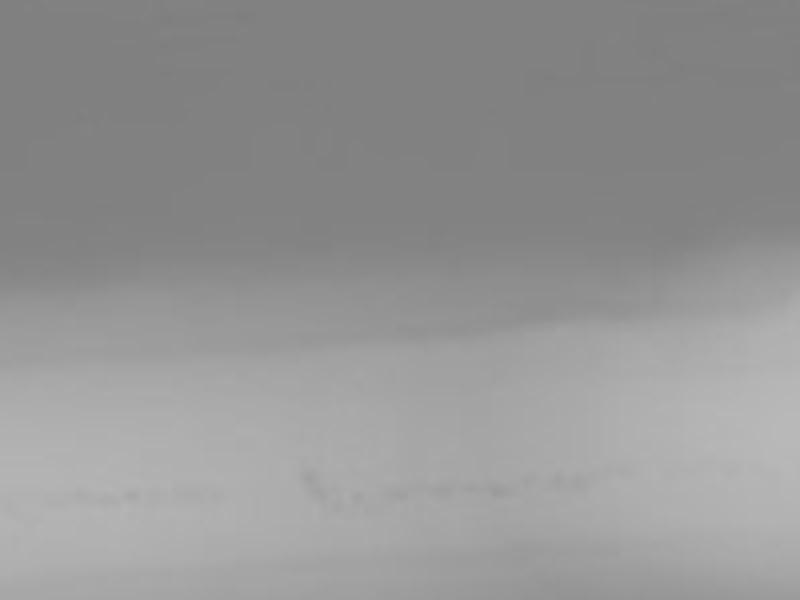defect: (384, 478, 412, 504), (305, 481, 330, 506), (566, 468, 590, 494), (429, 477, 456, 500), (123, 483, 147, 504), (489, 480, 511, 500), (96, 489, 118, 508), (541, 466, 562, 485), (75, 486, 95, 505), (295, 464, 316, 480), (326, 500, 344, 517), (518, 473, 537, 489), (348, 490, 367, 504)
